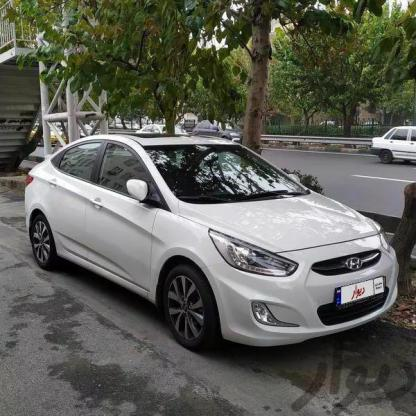Car: (15, 124, 405, 359), (371, 122, 416, 174), (191, 119, 255, 151)
